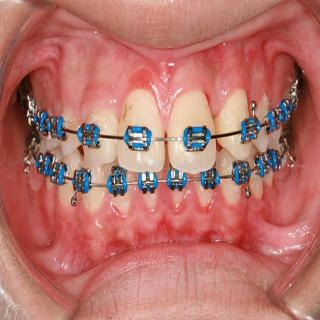Gum Swelling: (78, 64, 272, 131), (75, 184, 249, 232)
plaque: (56, 106, 79, 134), (256, 88, 276, 119), (60, 107, 76, 139), (228, 178, 246, 206)
